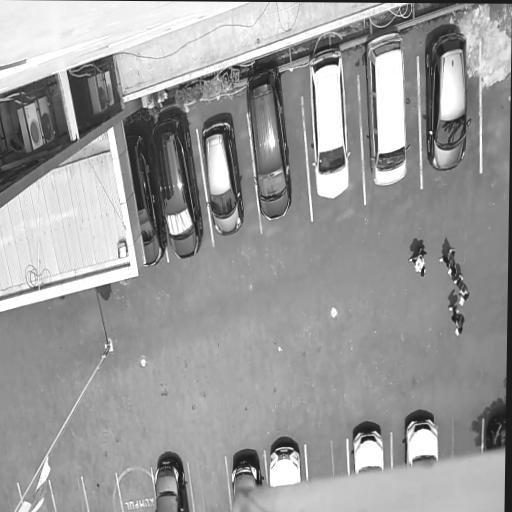Car: (296, 42, 355, 208), (415, 28, 477, 181), (356, 33, 414, 191), (151, 105, 208, 264), (242, 74, 298, 226), (121, 110, 167, 271), (194, 112, 249, 241), (150, 453, 191, 512), (396, 413, 443, 463), (346, 418, 389, 472), (264, 435, 307, 483), (229, 450, 261, 495), (482, 413, 506, 456)
Space Available: (481, 36, 512, 170), (187, 461, 232, 512), (437, 420, 484, 463), (304, 439, 347, 482), (114, 469, 155, 512), (81, 473, 122, 512), (50, 476, 88, 512), (18, 481, 56, 512), (0, 482, 25, 512)
